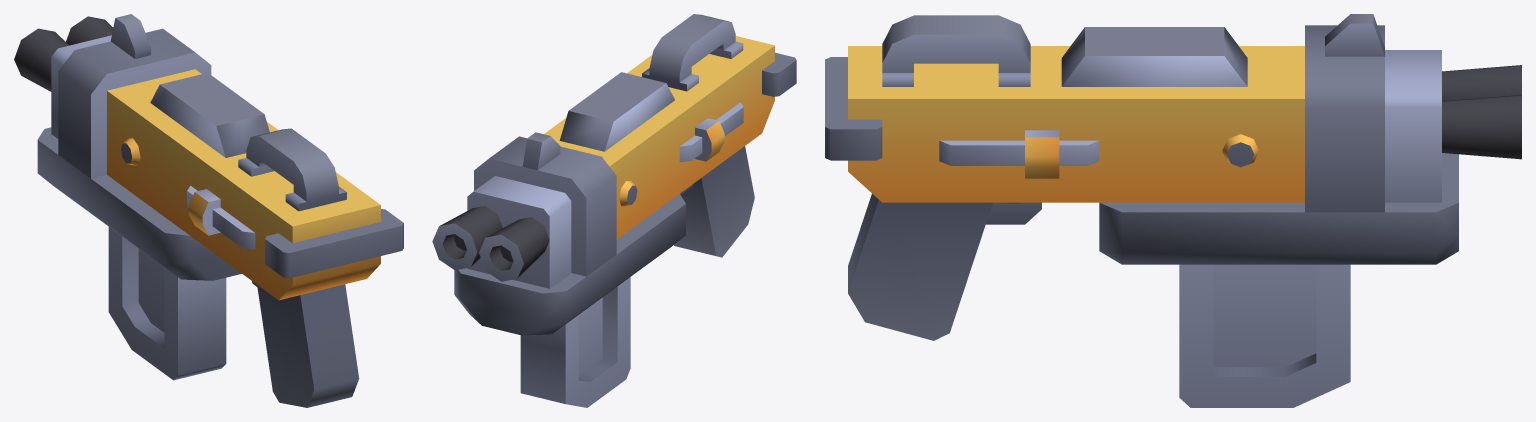
Rendered from launcher.glb.
The picture shows the model from 3 angles, left to right: view 1: azimuth 30°, elevation 25°; view 2: azimuth 150°, elevation 25°; view 3: azimuth 270°, elevation 25°; orthographic projection. The views are drawn at different scales.
Visible parts, largest first — view 1: blaster-j, magazine; view 2: blaster-j, magazine; view 3: blaster-j, magazine.
Part boxes in pixels (x1,y1,x2,y2): blaster-j: (14,14,403,407); magazine: (108,227,226,380); blaster-j: (432,14,796,335); magazine: (520,277,630,407); blaster-j: (825,14,1521,340); magazine: (1179,264,1350,407).
Bounding box in the file's own units: 0.155 × 0.3619 × 0.61.
Materials: 1 (1 with a texture image).
